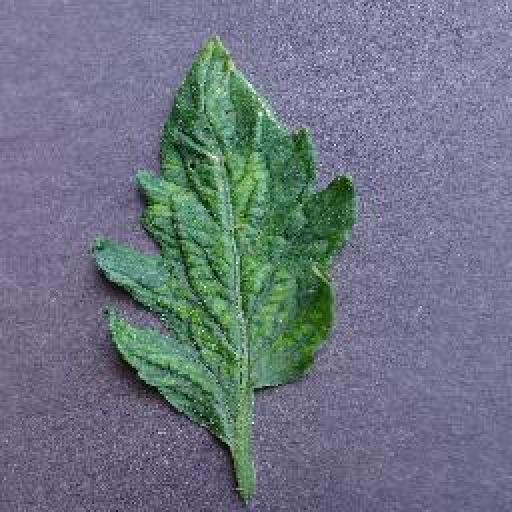disease_tomato: (92, 32, 360, 432)
